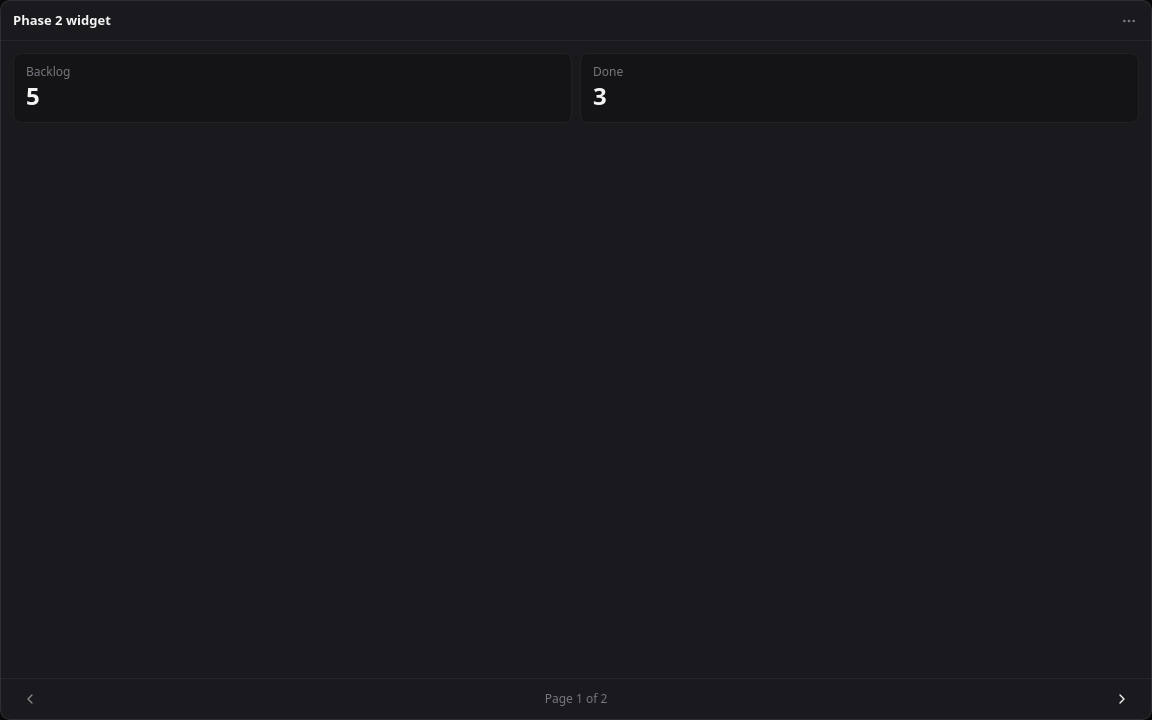
Test case: WidgetCard smart_counter › renders grid tiles and paginates through the envelope
The width and height of the screenshot is (1152, 720).
Expected: the text "Backlog" is shown, x1=26 y1=63 x2=70 y2=80
Expected: the text "5" is shown, x1=26 y1=79 x2=40 y2=112
Click the button named "Next page". click: (1122, 699)
box: x1=1105 y1=685 x2=1139 y2=713
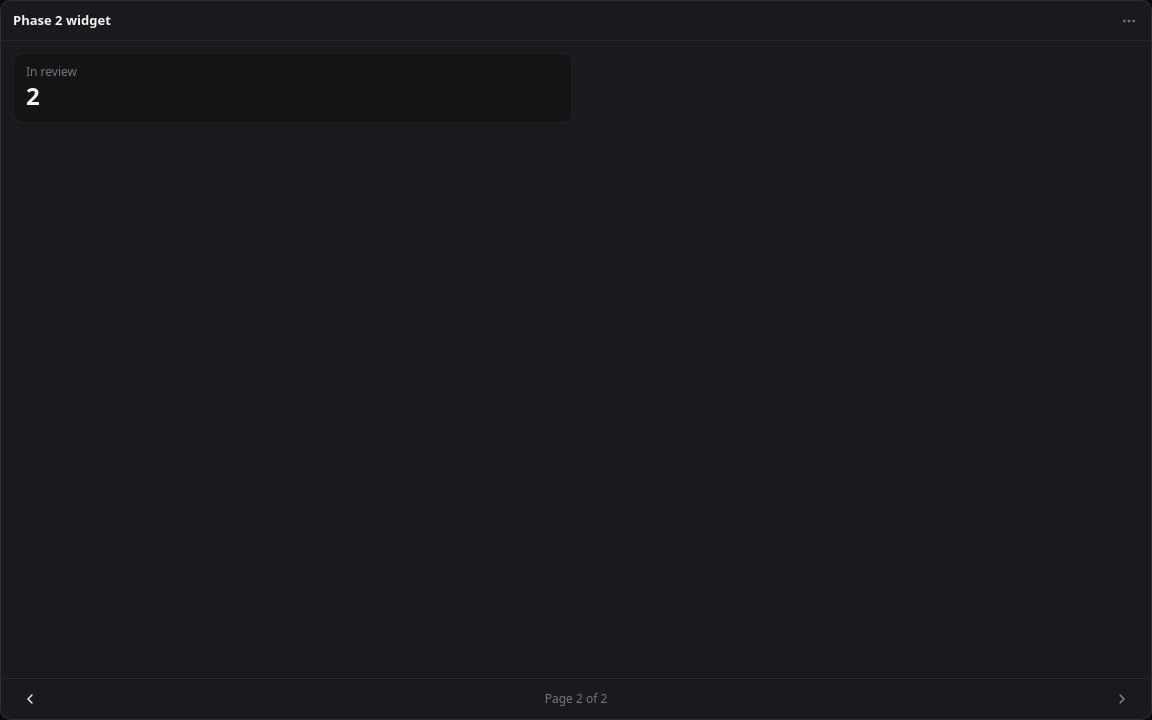
Now the text "In review" is shown, box x1=26 y1=63 x2=77 y2=80
Now the text "Page 2 of 2" is shown, box x1=545 y1=691 x2=607 y2=707
